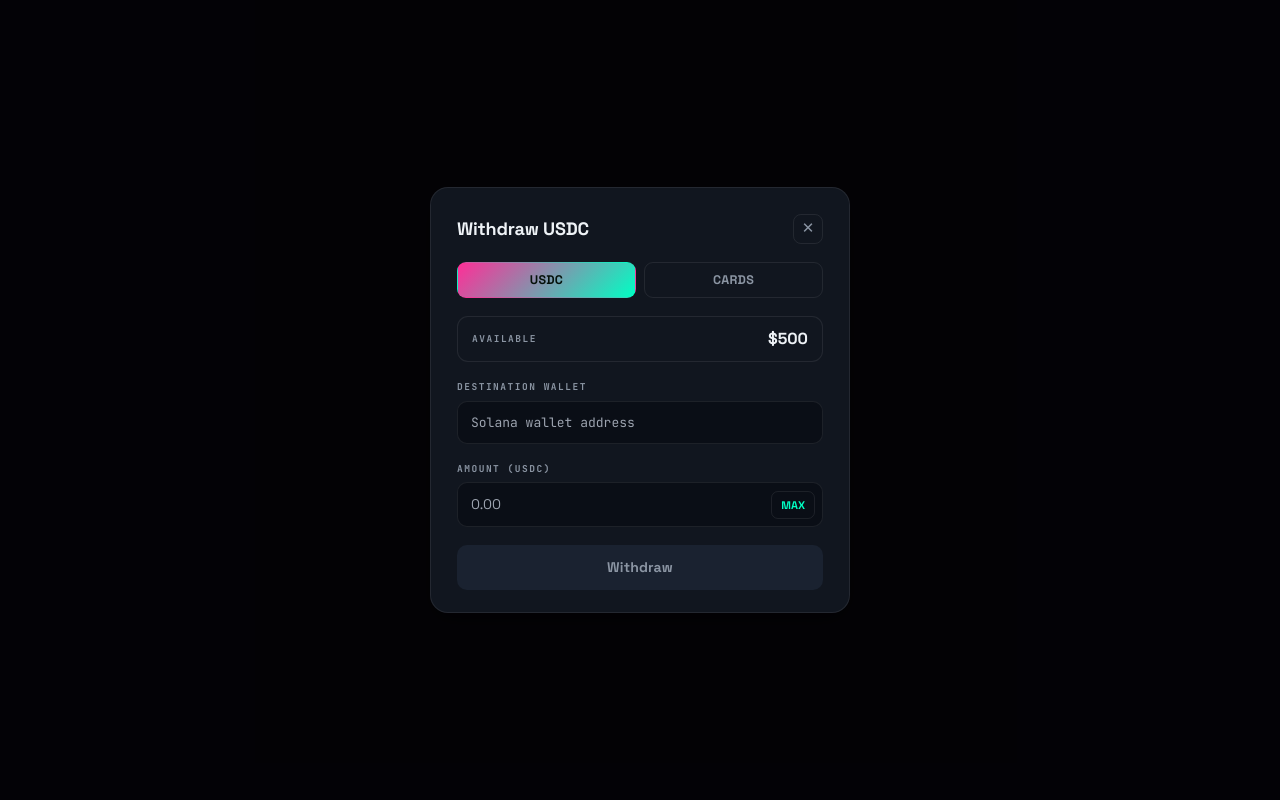
Test: WithdrawModal · qué se le dice al usuario cuando falla › con una partida en curso se explica el motivo Y cuándo se arregla
The image size is (1280, 800).
Type "4Nd1mBQtrMJVYVfKf2PJy9NZUZdTAsp7D4xWLs4gKgBc" into the field with placeholder "Solana wallet address" at (640, 422), box [457,401,823,444]
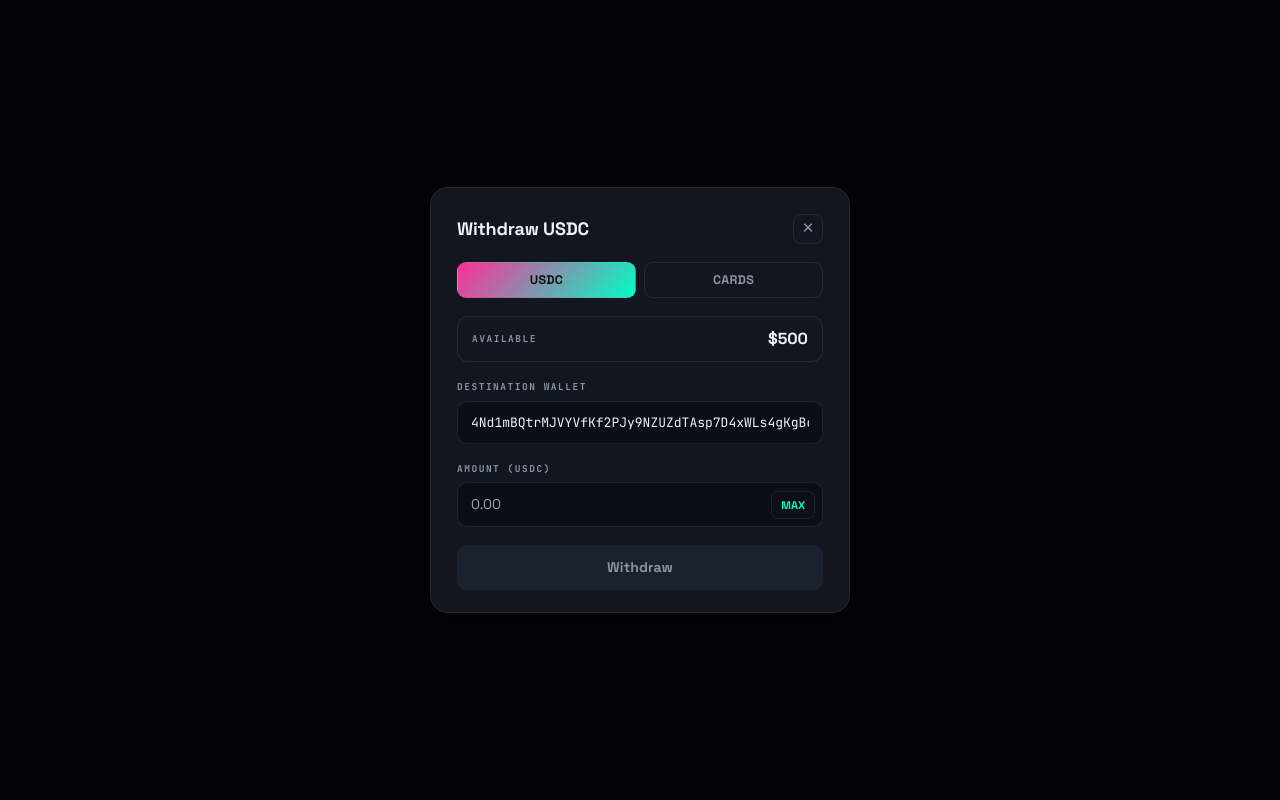
Type "10" into the field with placeholder "0.00" at (640, 505), box [457,482,823,527]
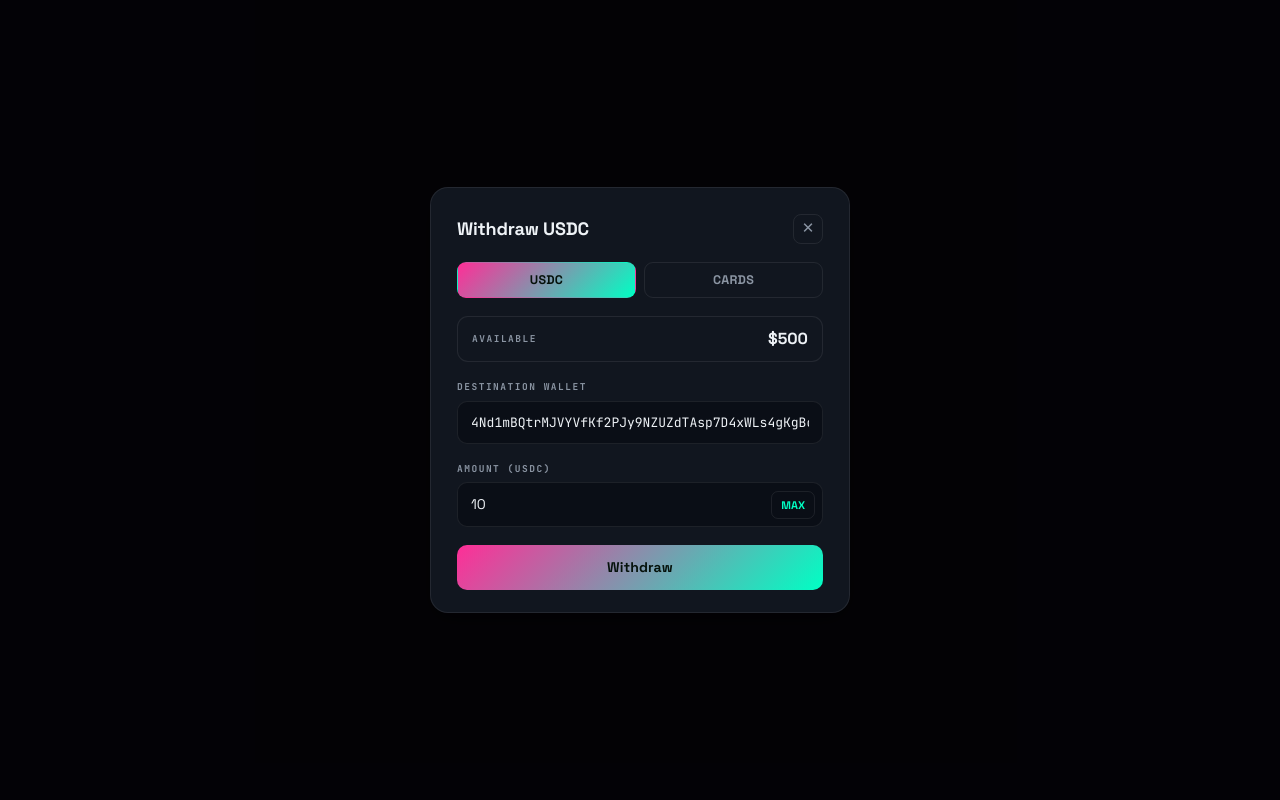
Click the button "Withdraw" at (640, 568), box [457,545,823,590]
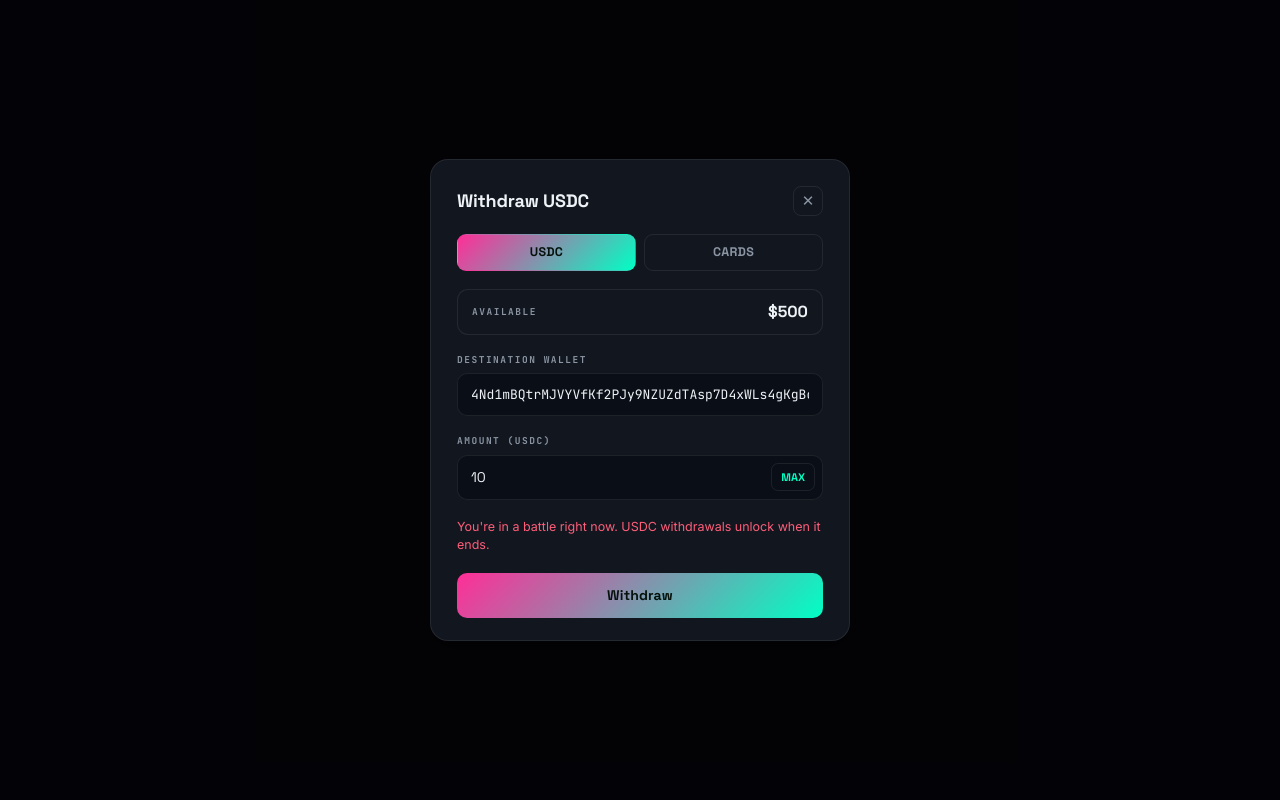
Expected: the text "in a battle right now" shows "unlock when it ends", [457,519,821,552]
